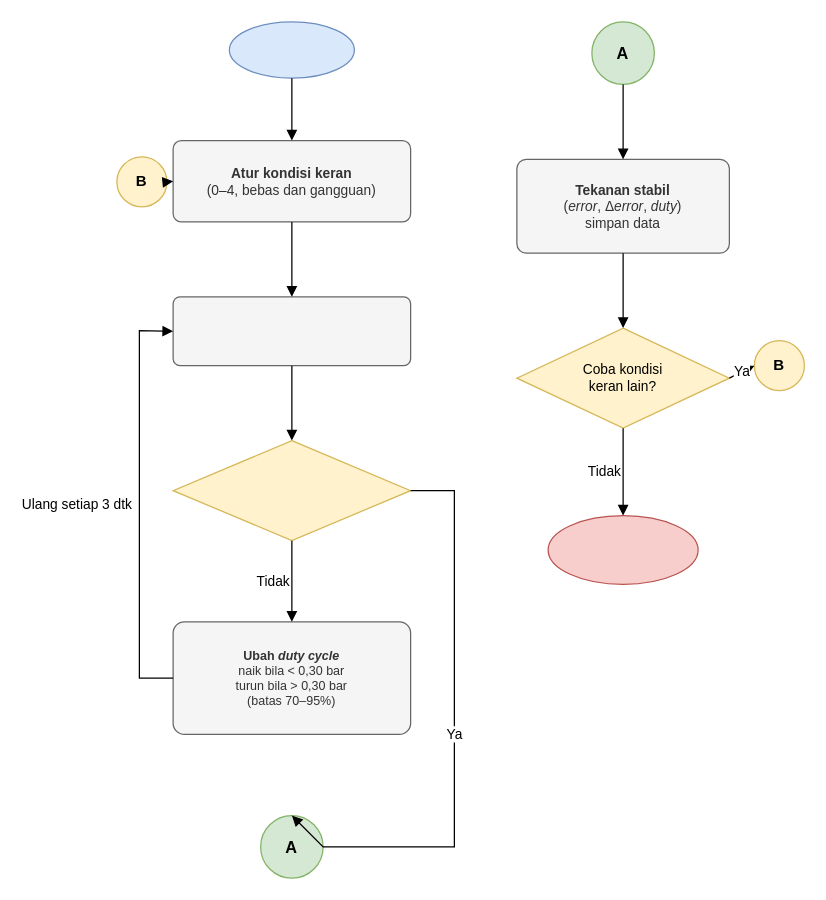
The diagram is 826 pixels wide and 900 high, and some of its shapes have lost their labels. Each missing label, with the box of its shape:
Baca tekanan air (sensor): (172, 296, 411, 366)
MULAI: (228, 21, 354, 78)
STOP Pengumpulan Dataset: (547, 514, 698, 584)
Tekanan = 0,30 bar?: (172, 439, 411, 541)
